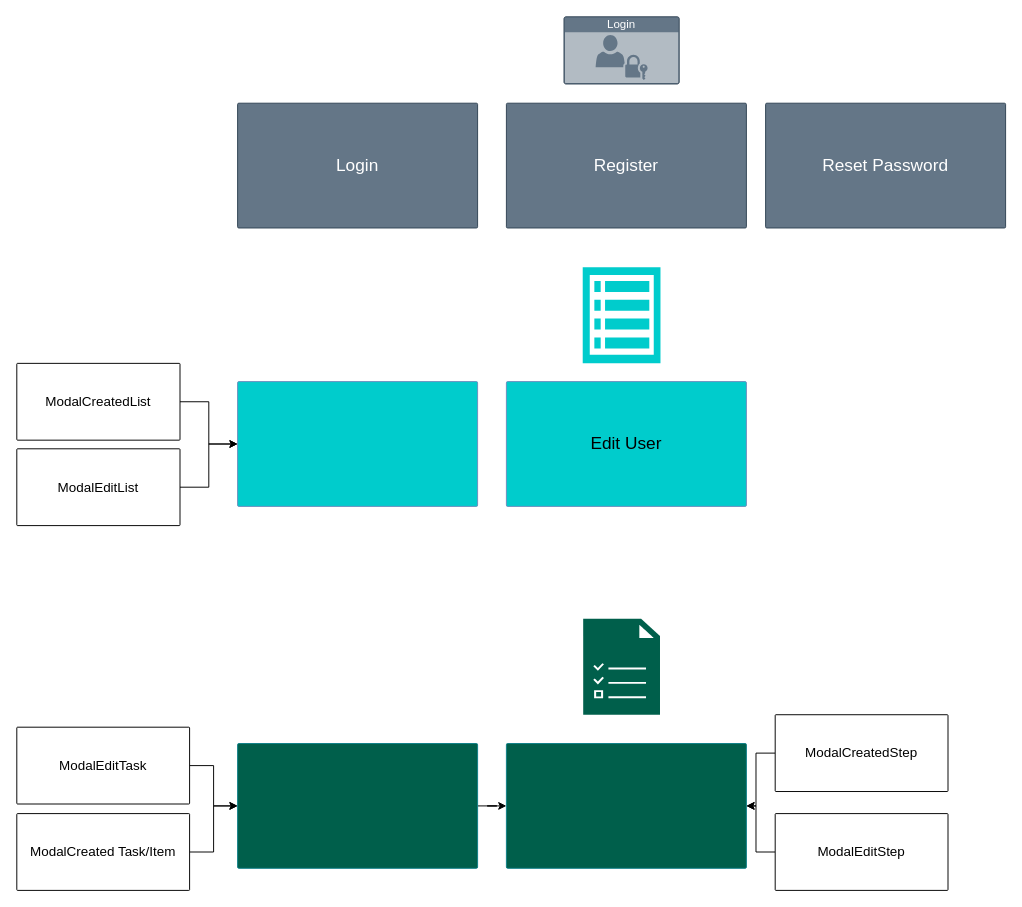
Some shapes in this 1022 by 907 pixel diagram are drawn without their labels. The shapes that lost their labels are listed below. From the top down, each one's centre as x and y in pixels, then its label:
the point at 357,443: Lists
the point at 357,805: List Tasks/Itens
the point at 625,805: Step - Details
